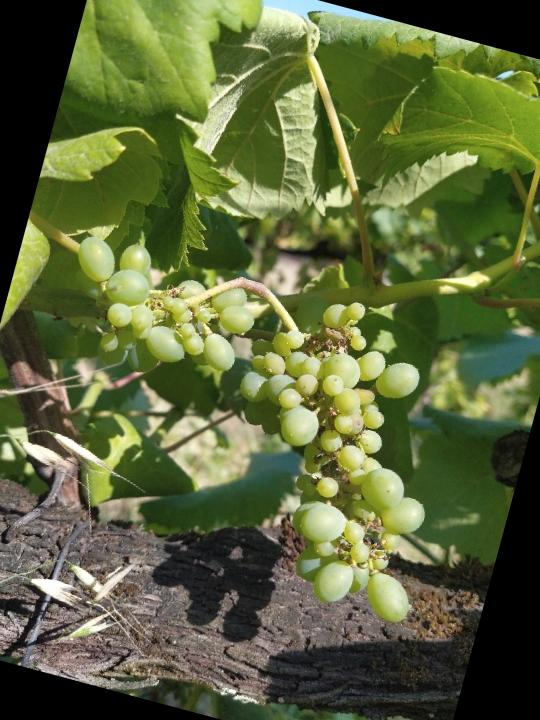grape: (0, 217, 493, 635)
